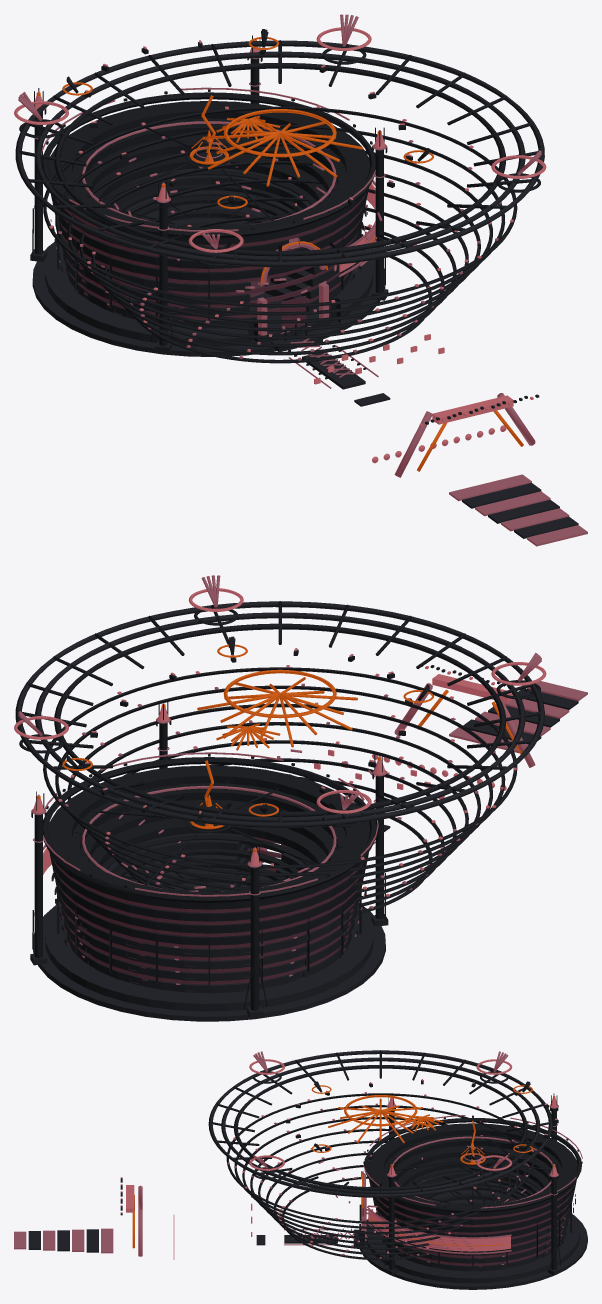
Rendered from leaderboard-ext-hero-draft-s88.glb.
3 renders of one model, top to bottom at view 1: azimuth 30°, elevation 25°; view 2: azimuth 150°, elevation 25°; view 3: azimuth 270°, elevation 25°, orthographic. The views are drawn at different scales.
Parts seen in each view (by area): view 1: leaderboard_s86_detail_hero_mesh, leaderboard_s86_base_hero_mesh, leaderboard_s86_accent_hero_mesh, leaderboard_s75_glass_combined_mesh, leaderboard_s86_energy_hero_mesh, leaderboard_s86_emissive_hero_mesh; view 2: leaderboard_s86_detail_hero_mesh, leaderboard_s86_base_hero_mesh, leaderboard_s75_glass_combined_mesh, leaderboard_s86_accent_hero_mesh, leaderboard_s86_energy_hero_mesh, leaderboard_s86_emissive_hero_mesh; view 3: leaderboard_s86_detail_hero_mesh, leaderboard_s86_base_hero_mesh, leaderboard_s86_accent_hero_mesh, leaderboard_s86_emissive_hero_mesh, leaderboard_s86_energy_hero_mesh, leaderboard_s75_glass_combined_mesh.
Boxes of the visible parts, x1=… form: leaderboard_s86_detail_hero_mesh: x1=18, y1=29, x2=541, y2=379; leaderboard_s86_base_hero_mesh: x1=15, y1=40, x2=578, y2=538; leaderboard_s86_accent_hero_mesh: x1=18, y1=14, x2=587, y2=546; leaderboard_s75_glass_combined_mesh: x1=52, y1=194, x2=365, y2=327; leaderboard_s86_energy_hero_mesh: x1=36, y1=37, x2=523, y2=471; leaderboard_s86_emissive_hero_mesh: x1=14, y1=27, x2=546, y2=463; leaderboard_s86_detail_hero_mesh: x1=18, y1=601, x2=541, y2=1010; leaderboard_s86_base_hero_mesh: x1=15, y1=601, x2=578, y2=1021; leaderboard_s75_glass_combined_mesh: x1=53, y1=836, x2=363, y2=984; leaderboard_s86_accent_hero_mesh: x1=18, y1=575, x2=587, y2=984; leaderboard_s86_energy_hero_mesh: x1=36, y1=644, x2=521, y2=851; leaderboard_s86_emissive_hero_mesh: x1=14, y1=588, x2=546, y2=896; leaderboard_s86_detail_hero_mesh: x1=210, y1=1050, x2=582, y2=1270; leaderboard_s86_base_hero_mesh: x1=28, y1=1050, x2=587, y2=1289; leaderboard_s86_accent_hero_mesh: x1=14, y1=1051, x2=582, y2=1264; leaderboard_s86_emissive_hero_mesh: x1=120, y1=1059, x2=557, y2=1259; leaderboard_s86_energy_hero_mesh: x1=132, y1=1085, x2=555, y2=1248; leaderboard_s75_glass_combined_mesh: x1=362, y1=1183, x2=575, y2=1267.
Bounding box in the file's own units: 27.54 × 12.09 × 45.92.
